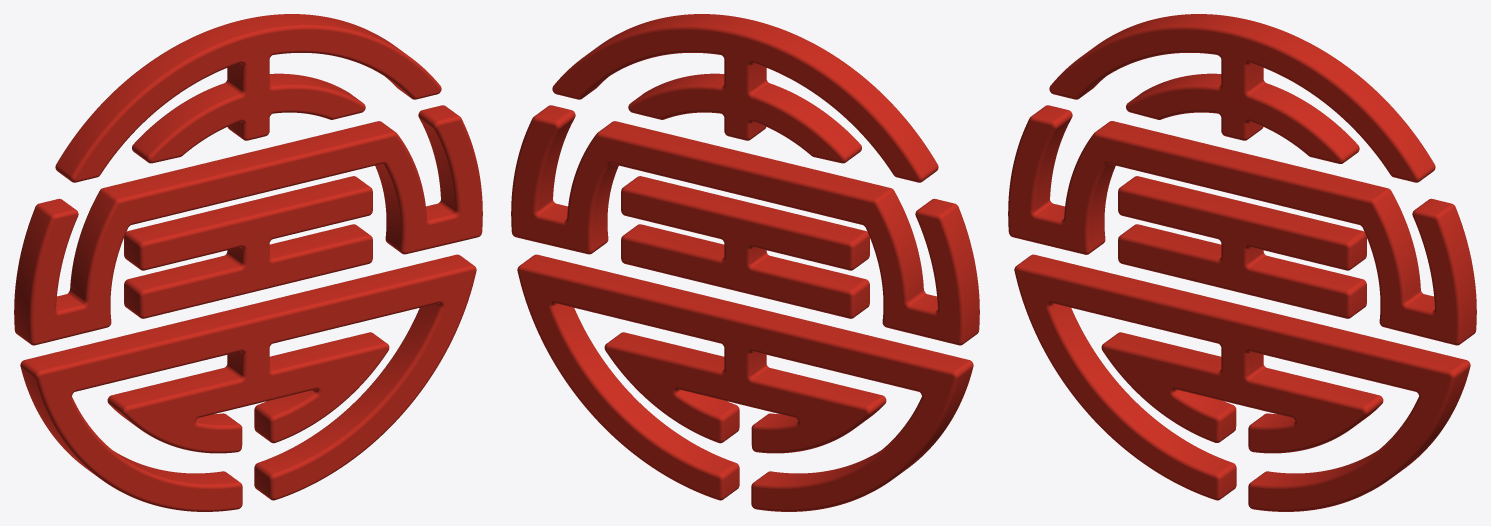
The model's file is shou-sello.glb.
3 renders of one model, left to right at view 1: azimuth 30°, elevation 25°; view 2: azimuth 150°, elevation 25°; view 3: azimuth 330°, elevation 25°, orthographic.
Parts seen in each view (by area): view 1: geometry_0; view 2: geometry_0; view 3: geometry_0.
Part boxes in pixels (x1=…): geometry_0: x1=14, y1=14, x2=482, y2=511; geometry_0: x1=511, y1=14, x2=979, y2=511; geometry_0: x1=1008, y1=14, x2=1476, y2=511.
Size of the model in its own units: 1 by 0.9979 by 0.07.
